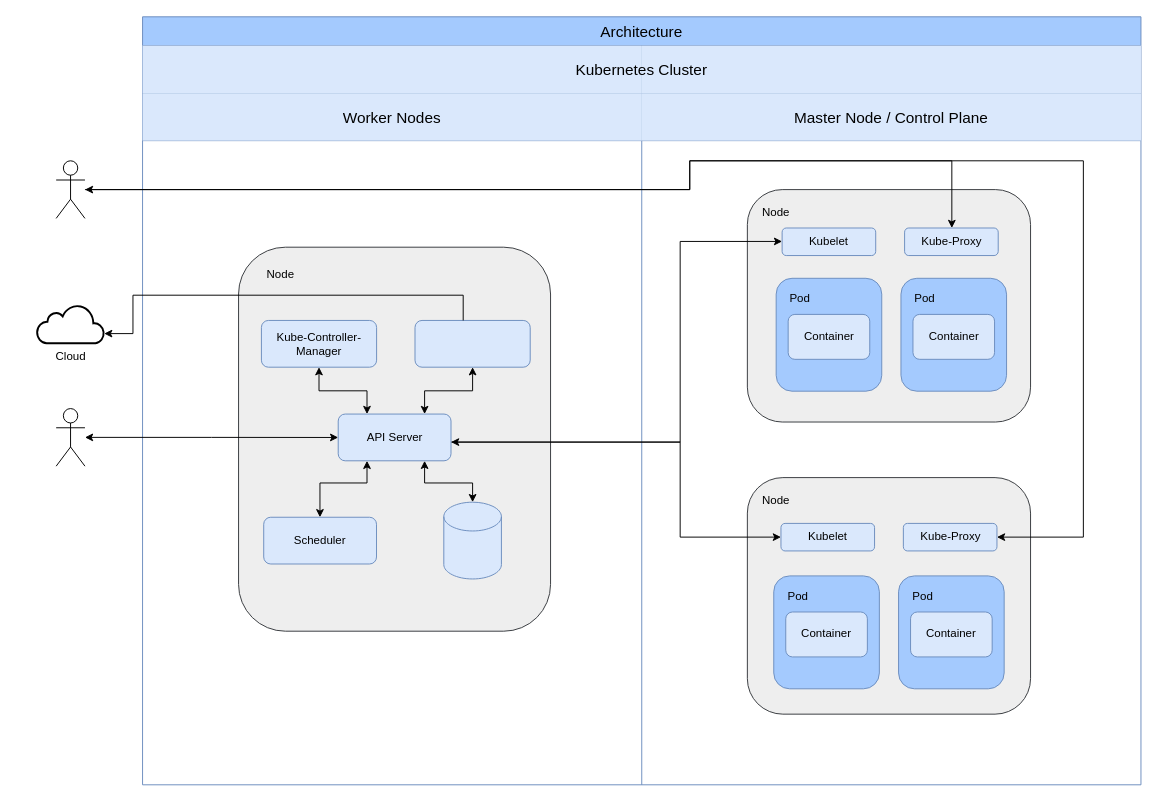
The diagram is 1158 pixels wide and 802 high, and some of its shapes have lost their labels. Each missing label, with the centre of its shape:
"Application Users" belongs at point (70, 189).
"Cloud-Controller-Manager" belongs at point (472, 343).
"Developer / Operator" belongs at point (70, 437).
"Etcd" belongs at point (472, 540).
